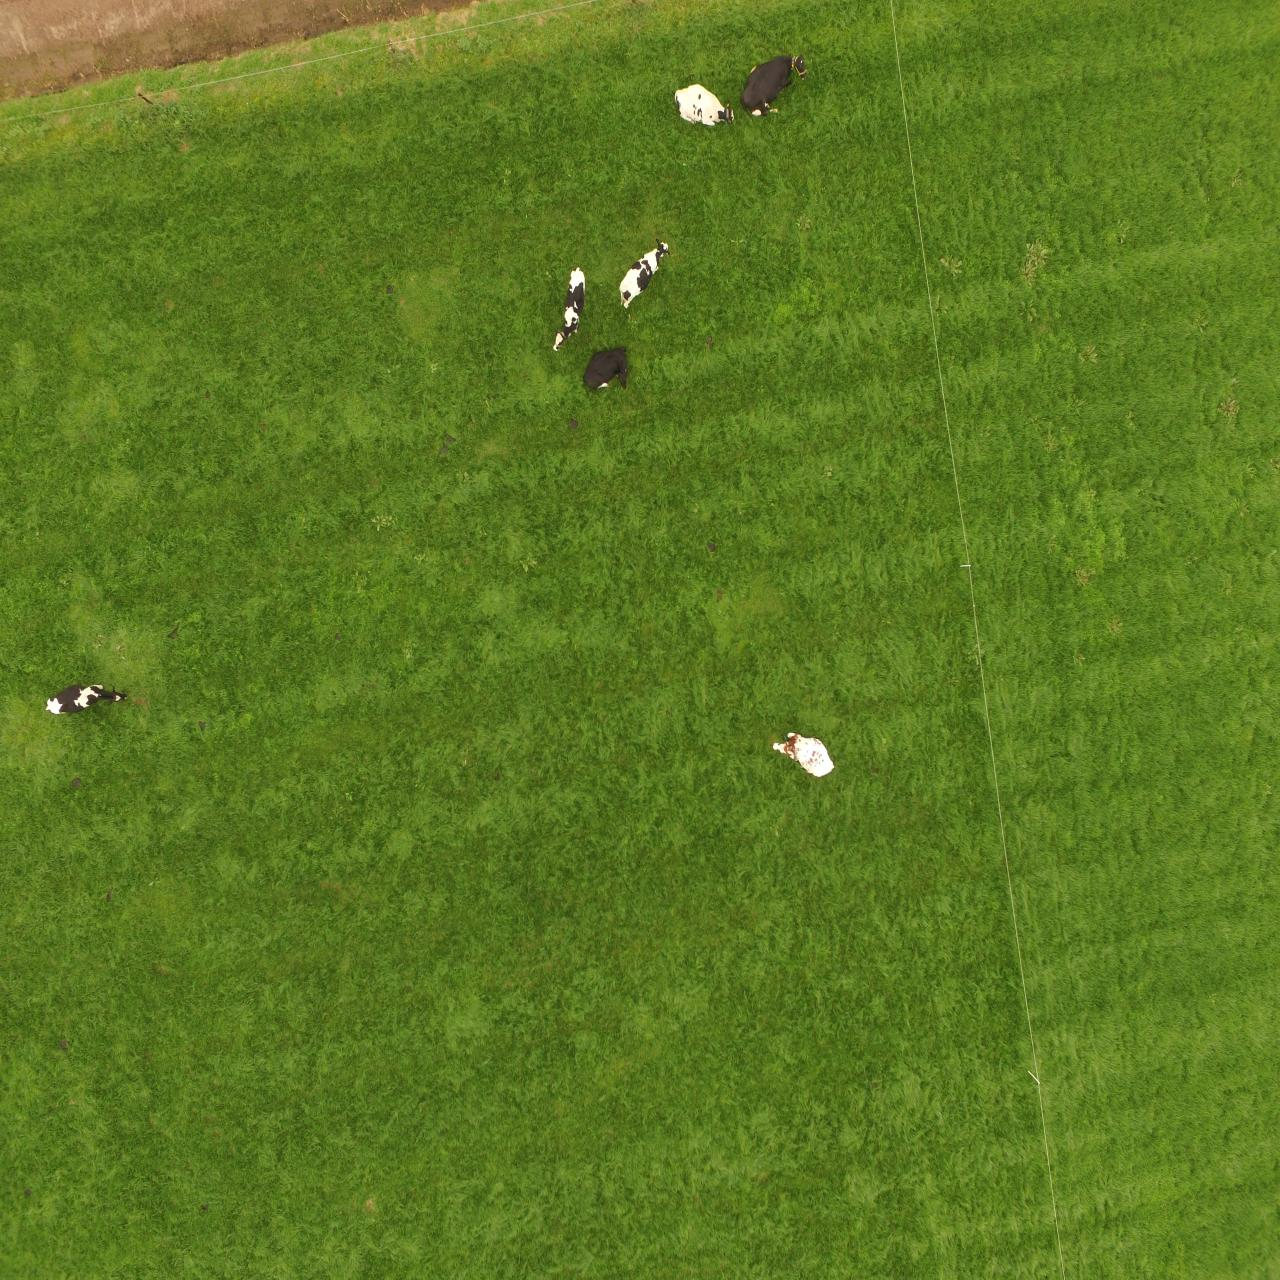cow: (741, 48, 806, 123), (618, 236, 674, 312), (547, 259, 588, 361), (764, 727, 838, 777), (668, 82, 738, 132), (581, 340, 633, 402), (43, 685, 131, 716)
